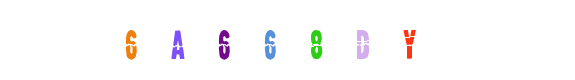6: (141, 0, 221, 80), (219, 0, 299, 80), (229, 0, 309, 80)
8: (248, 0, 328, 80)
A: (183, 0, 263, 80)
D: (260, 0, 340, 80)
Y: (276, 0, 356, 80)
